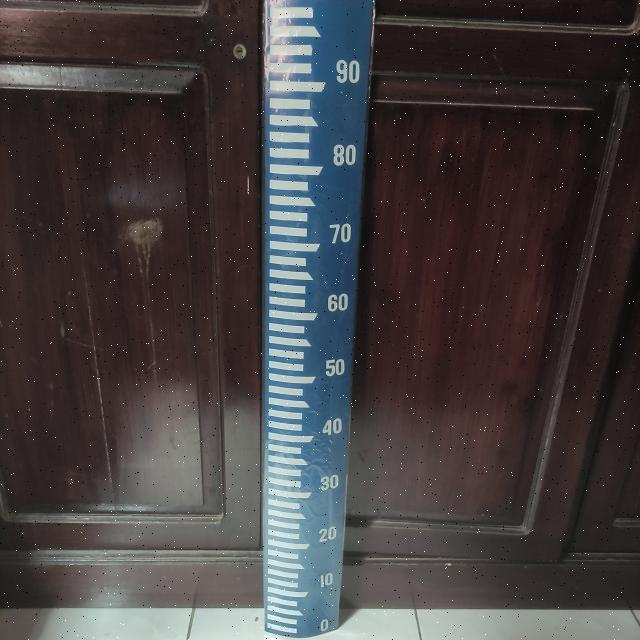10: (318, 570, 336, 591)
20: (318, 525, 338, 544)
30: (318, 473, 341, 494)
40: (321, 416, 345, 437)
50: (324, 358, 344, 379)
60: (328, 293, 349, 314)
70: (328, 222, 352, 245)
80: (330, 145, 358, 166)
90: (333, 59, 362, 85)
staff: (264, 4, 376, 629)
